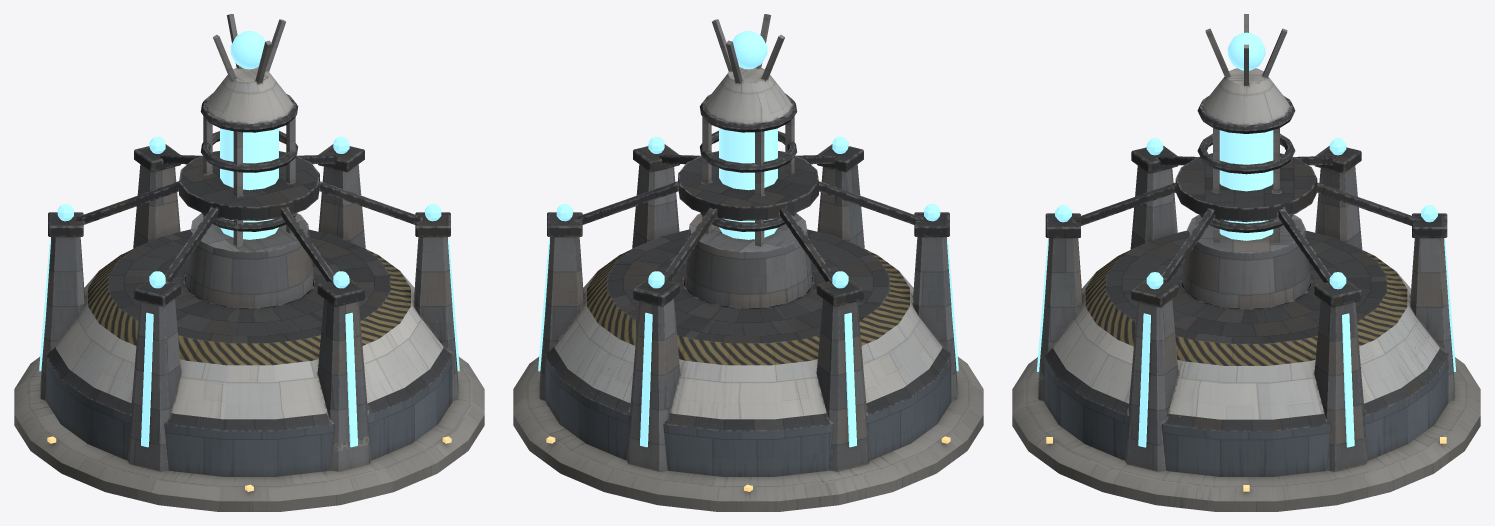
The model's file is shield_dome.glb.
3 renders of one model, left to right at view 1: azimuth 30°, elevation 25°; view 2: azimuth 150°, elevation 25°; view 3: azimuth 270°, elevation 25°, orthographic.
Parts seen in each view (by area): view 1: shield_dome_hull, shield_dome_lights; view 2: shield_dome_hull, shield_dome_lights; view 3: shield_dome_hull, shield_dome_lights.
Boxes of the visible parts, x1=… form: shield_dome_hull: x1=14, y1=14, x2=484, y2=511; shield_dome_lights: x1=39, y1=31, x2=459, y2=491; shield_dome_hull: x1=513, y1=14, x2=983, y2=511; shield_dome_lights: x1=538, y1=31, x2=958, y2=491; shield_dome_hull: x1=1012, y1=14, x2=1480, y2=511; shield_dome_lights: x1=1037, y1=32, x2=1455, y2=491.
Bounding box in the file's own units: 31.73 × 28.66 × 31.73.
4 materials, 1 textured.
